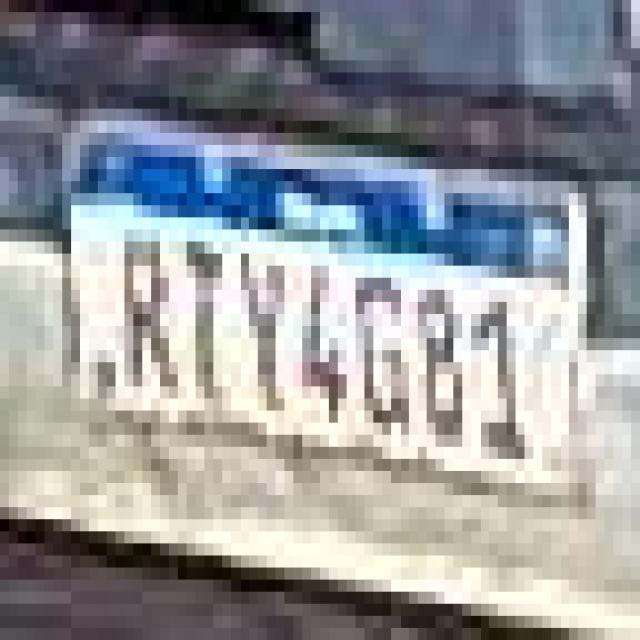1: (472, 284, 530, 468)
4: (295, 258, 348, 432)
8: (410, 279, 468, 451)
G: (348, 266, 412, 441)
R: (117, 231, 179, 398)
T: (172, 230, 232, 403)
Y: (236, 245, 293, 418)
